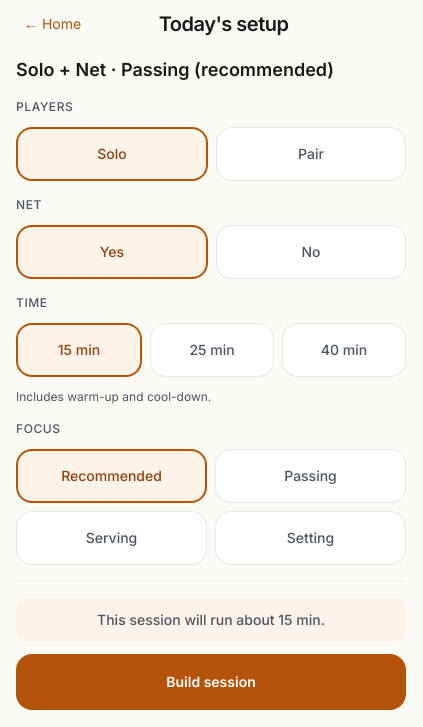
Test: SetupScreen (C-3) › D158 setup-01 focal resolved line › tracks an explicit focus chip in the resolved line
Check: the text "Solo + Net · Passing (recommended)" is shown, box x1=16 y1=59 x2=334 y2=80
Click the radio button labelled "Passing". click: (310, 476)
box: x1=215 y1=449 x2=406 y2=503
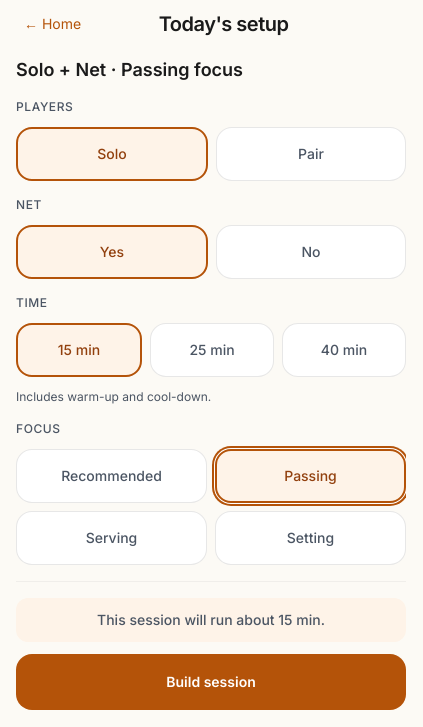
Check: the element with test id "setup-resolved-line" does not show "min"
Check: the text with test id "setup-resolved-line" shows "Passing focus", box x1=16 y1=59 x2=243 y2=80
